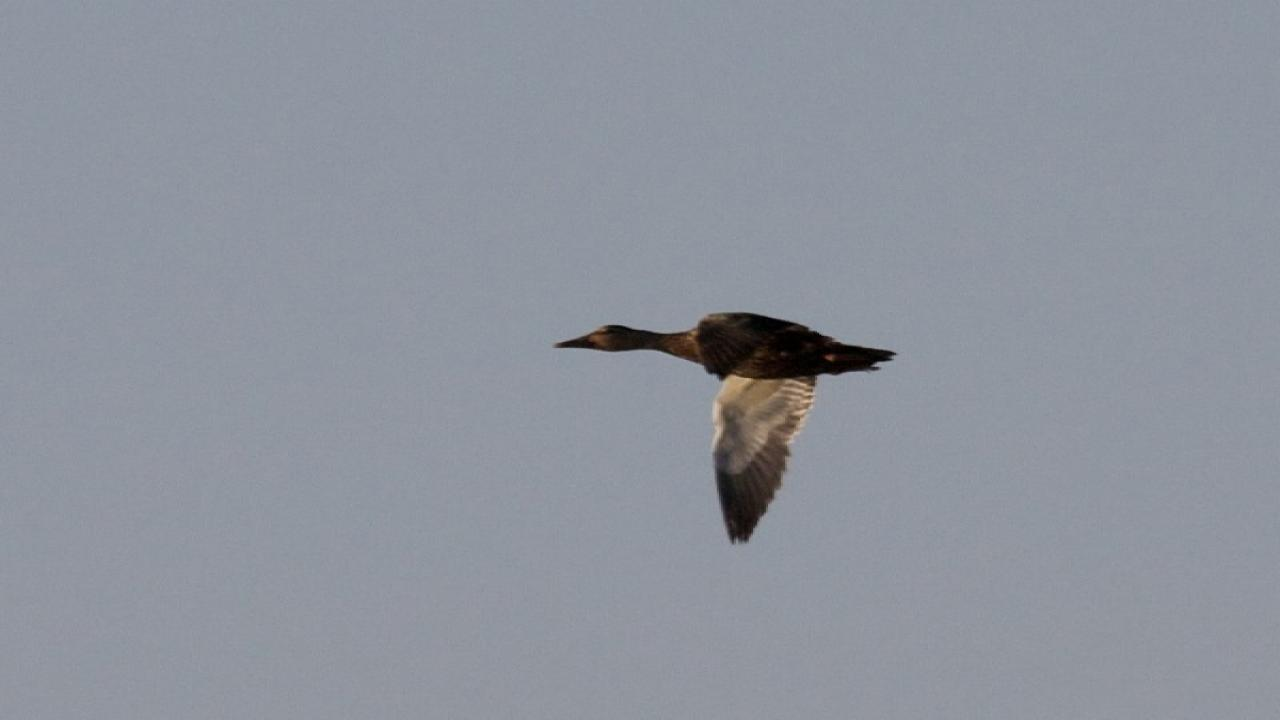Bird: (544, 304, 901, 554)
